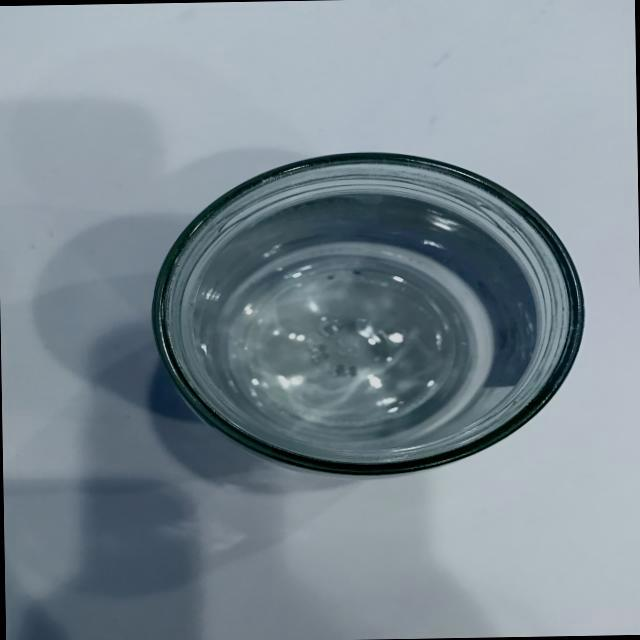glass: (144, 132, 618, 508)
